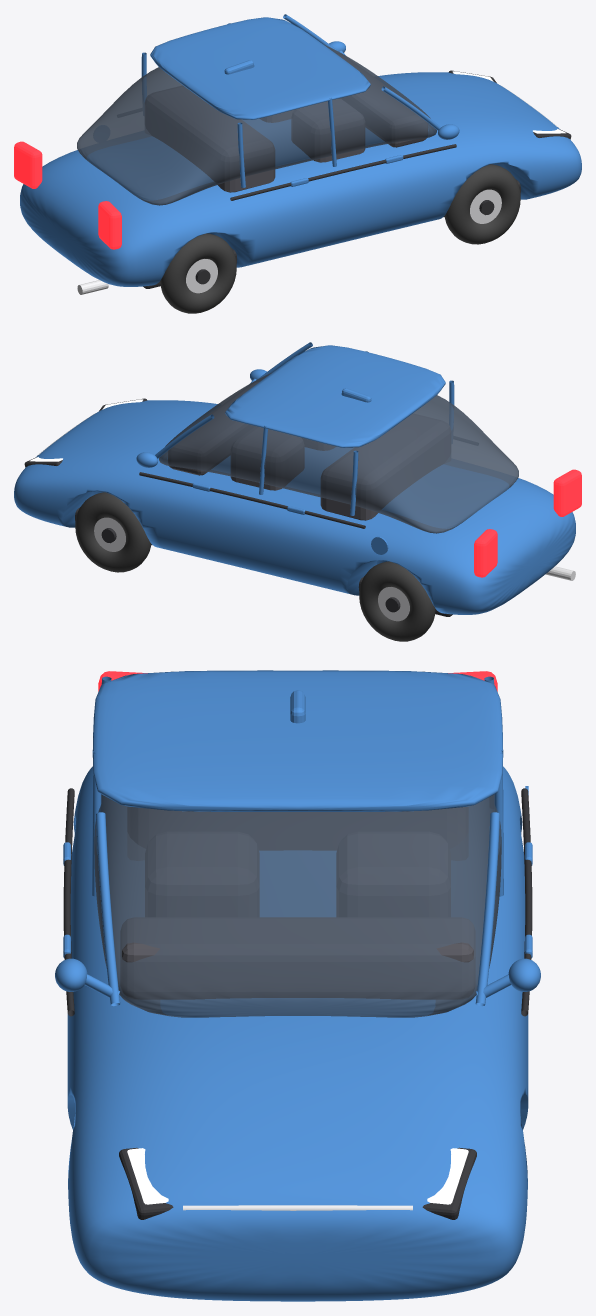
Rendered from jp_car_blue.glb.
3 renders of one model, top to bottom at view 1: azimuth 30°, elevation 25°; view 2: azimuth 150°, elevation 25°; view 3: azimuth 270°, elevation 25°, orthographic. The views are drawn at different scales.
Visible parts, largest first — view 1: LowerBody, Greenhouse, Roof, SeatR, Tire3, Tire1, SeatF_-0.35, Dash, Tail_L, Tail_R, BeltTrim.001, Rim3 (+1 smaller); view 2: LowerBody, Greenhouse, Roof, SeatR, Tire2, Tire0, SeatF_0.35, Dash, Tail_R, Tail_L, BeltTrim, Rim2 (+1 smaller); view 3: LowerBody, Greenhouse, Roof, Dash, SeatF_0.35, SeatF_-0.35, SeatR, APillar, APillar.001, GrilleBar, BeltTrim, BeltTrim.001 (+6 smaller).
Boxes of the visible parts, x1=… form: LowerBody: x1=20, y1=72, x2=581, y2=286; Greenhouse: x1=77, y1=44, x2=436, y2=205; Roof: x1=150, y1=17, x2=370, y2=119; SeatR: x1=145, y1=85, x2=275, y2=192; Tire3: x1=160, y1=233, x2=236, y2=313; Tire1: x1=444, y1=164, x2=520, y2=244; SeatF_-0.35: x1=291, y1=99, x2=365, y2=162; Dash: x1=337, y1=54, x2=427, y2=147; Tail_L: x1=14, y1=141, x2=42, y2=188; Tail_R: x1=98, y1=201, x2=121, y2=249; BeltTrim.001: x1=230, y1=144, x2=456, y2=200; Rim3: x1=186, y1=259, x2=217, y2=293; LowerBody: x1=14, y1=400, x2=575, y2=614; Greenhouse: x1=159, y1=372, x2=518, y2=533; Roof: x1=225, y1=345, x2=445, y2=447; SeatR: x1=320, y1=413, x2=450, y2=520; Tire2: x1=359, y1=561, x2=435, y2=641; Tire0: x1=75, y1=492, x2=151, y2=572; SeatF_0.35: x1=230, y1=427, x2=304, y2=490; Dash: x1=168, y1=382, x2=258, y2=475; Tail_R: x1=553, y1=469, x2=581, y2=516; Tail_L: x1=474, y1=529, x2=497, y2=577; BeltTrim: x1=139, y1=472, x2=365, y2=528; Rim2: x1=378, y1=587, x2=409, y2=621; LowerBody: x1=67, y1=766, x2=528, y2=1301; Greenhouse: x1=94, y1=794, x2=501, y2=1017; Roof: x1=92, y1=670, x2=503, y2=811; Dash: x1=120, y1=917, x2=475, y2=999; SeatF_0.35: x1=336, y1=832, x2=450, y2=916; SeatF_-0.35: x1=145, y1=832, x2=259, y2=916; SeatR: x1=127, y1=807, x2=468, y2=850; APillar: x1=475, y1=812, x2=499, y2=1006; APillar.001: x1=96, y1=812, x2=120, y2=1006; GrilleBar: x1=183, y1=1205, x2=412, y2=1210; BeltTrim: x1=521, y1=788, x2=532, y2=1016; BeltTrim.001: x1=63, y1=788, x2=74, y2=1016.
Size of the model in its own units: 4.09 by 1.55 by 1.78.
